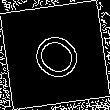O_SE: (22, 22, 88, 88)
